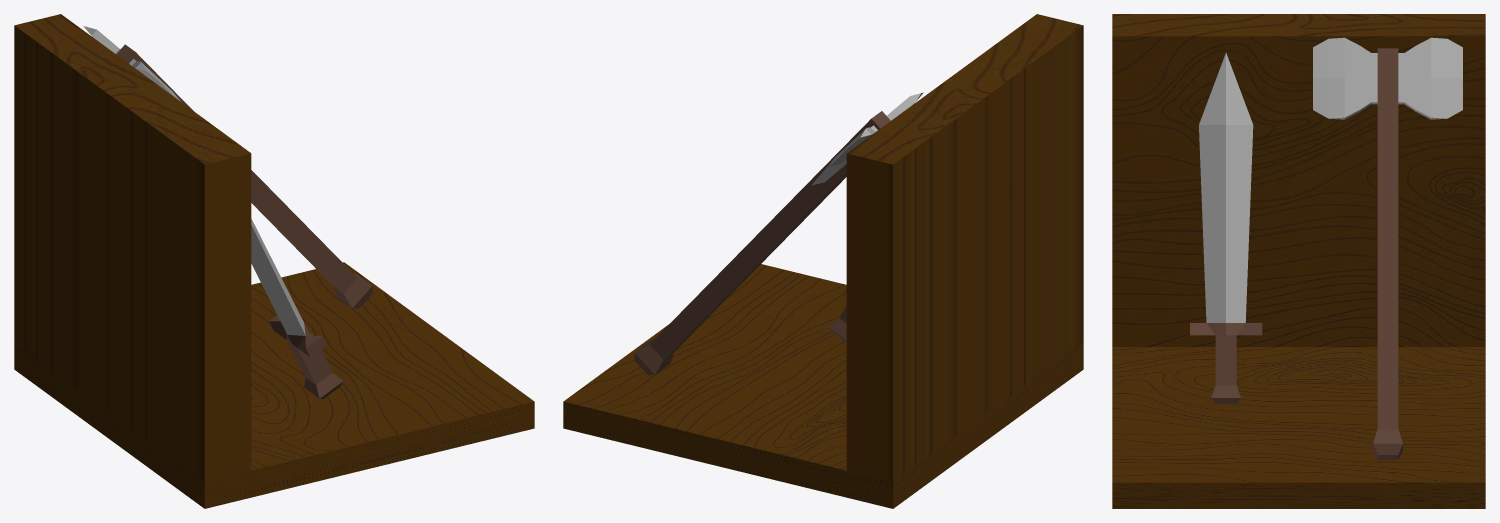
Rendered from weapons.fbx.
The picture shows the model from 3 angles, left to right: view 1: azimuth 30°, elevation 25°; view 2: azimuth 150°, elevation 25°; view 3: azimuth 270°, elevation 25°; orthographic projection. The views are drawn at different scales.
Parts seen in each view (by area): view 1: weapons; view 2: weapons; view 3: weapons.
Part boxes in pixels (box(x1,y1,x2,y2)): weapons: box(14, 14, 534, 508); weapons: box(563, 14, 1083, 508); weapons: box(1112, 14, 1485, 508).
Bounding box in the file's own units: 9.65 × 9.7 × 9.65.
